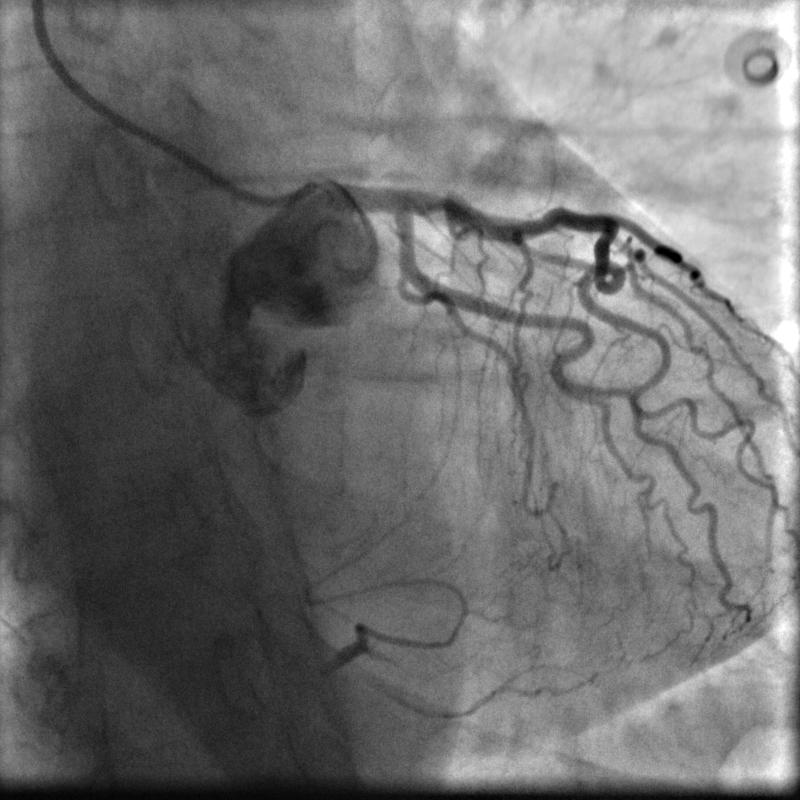Stenosis: (418, 185, 460, 221)
